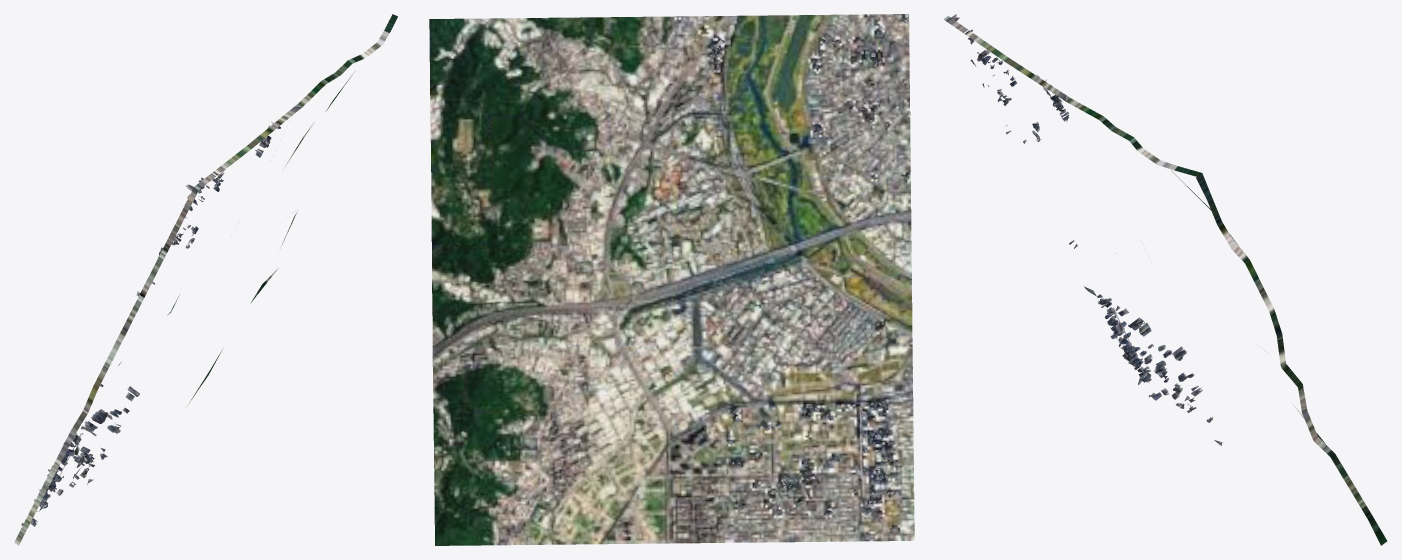
The picture shows the model from 3 angles, left to right: view 1: azimuth 30°, elevation 25°; view 2: azimuth 150°, elevation 25°; view 3: azimuth 270°, elevation 25°; orthographic projection. The views are drawn at different scales.
Size of the model in its own units: 4838 by 4509 by 4264.
1 material, 1 textured.
